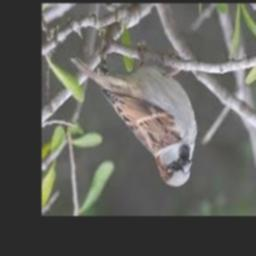Sparrow: (71, 56, 198, 187)
